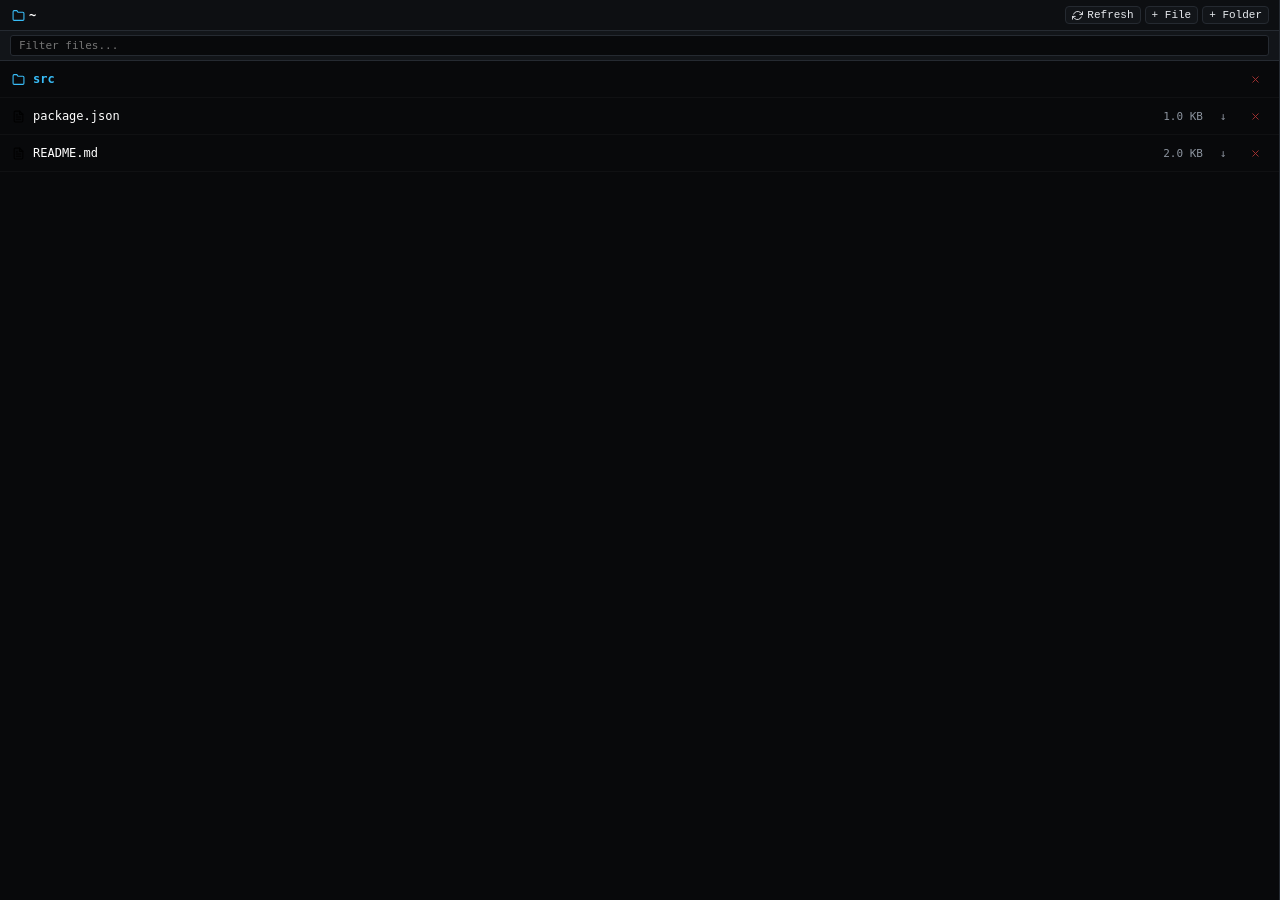
Test: WorkspaceFilesPanel Component › filters files in real-time by search query and clears filter
expect the text "package.json" is shown: met, box [33,109,120,123]
expect the text "README.md" is shown: met, box [33,146,98,160]
Type "pkg" into the field named "filter files in current directory" at (640,46), box [10,35,1269,56]
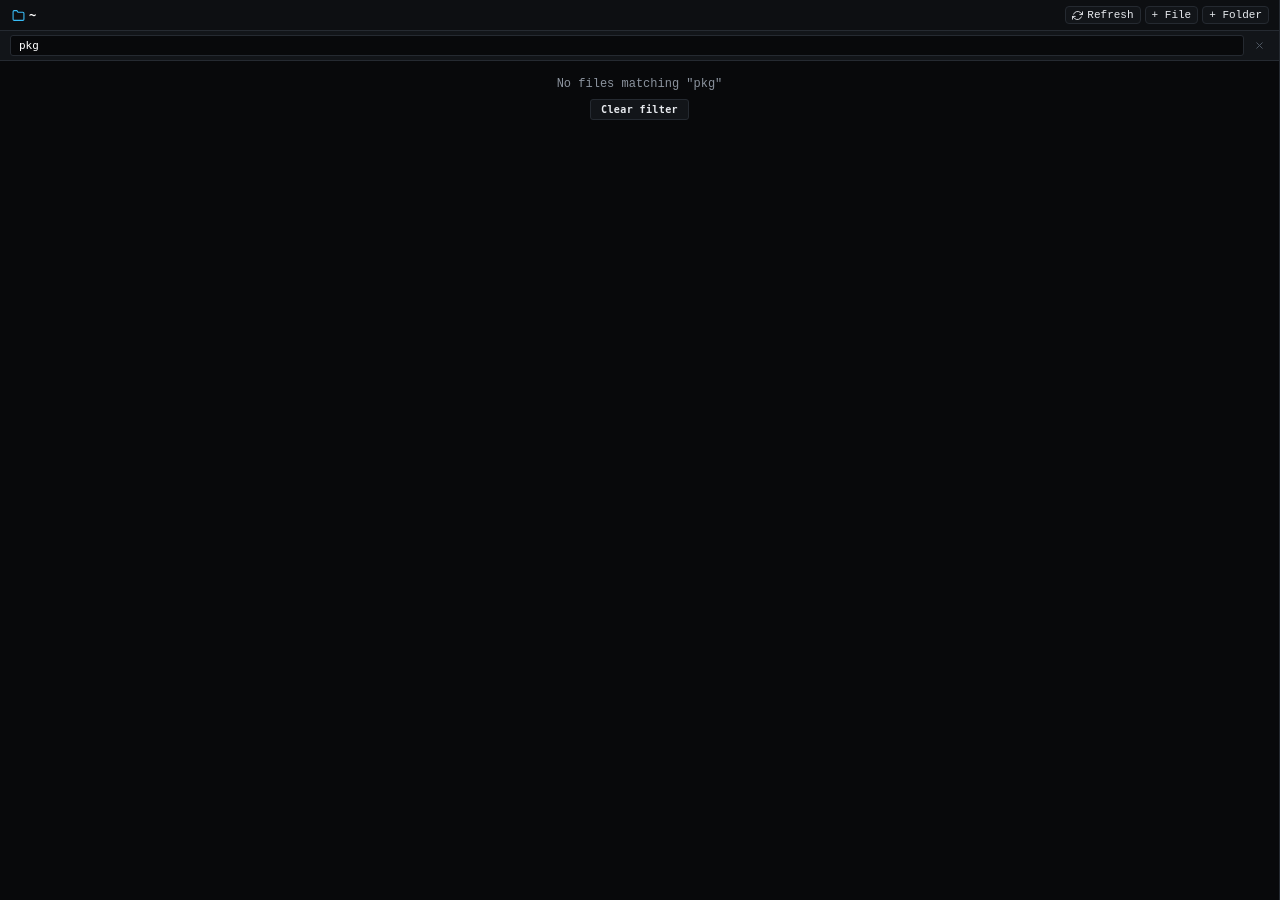
expect the text "README.md" is gone: met
# Type query with 0 matches
Replace the text in the field named "filter files in current directory" with "nonexistent" at (627,46), box [10,35,1244,56]
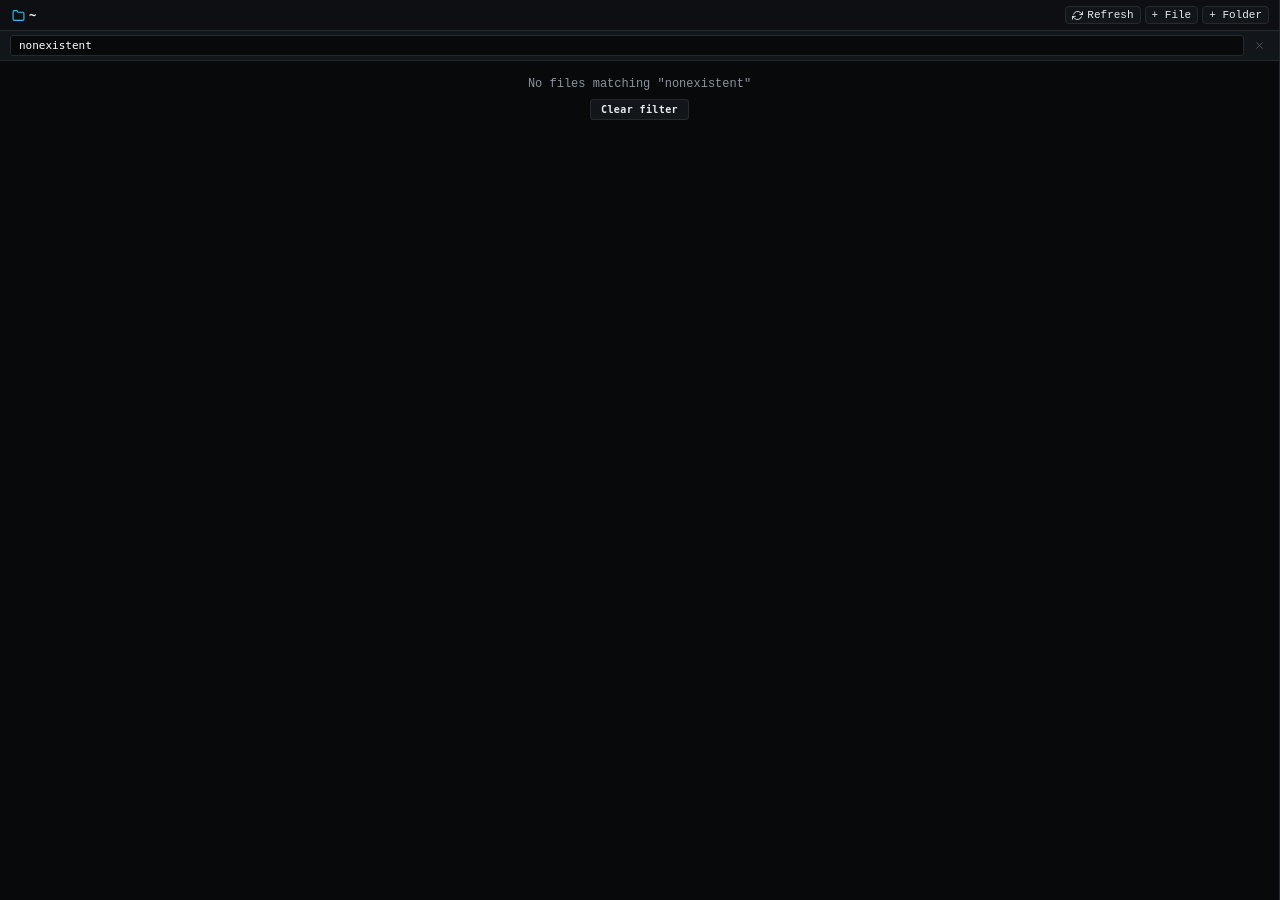
expect the text "No files matching \"nonexistent\"" is shown: met, box [528,77,751,91]
# Click "Clear filter" button
Click the button named "clear filter" at (1260,46), box [1250,38,1269,53]
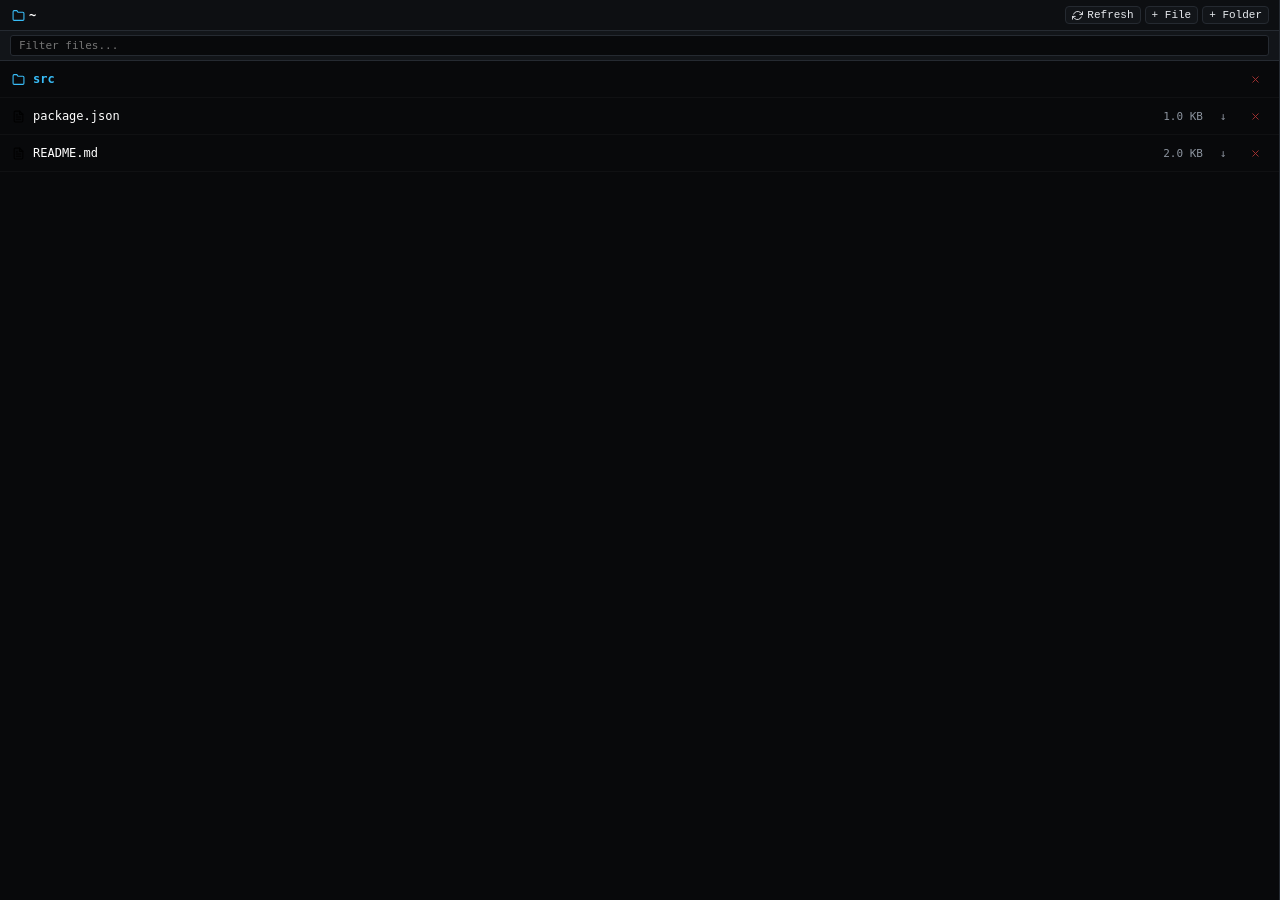
expect the text "package.json" is shown: met, box [33,109,120,123]
expect the text "README.md" is shown: met, box [33,146,98,160]
